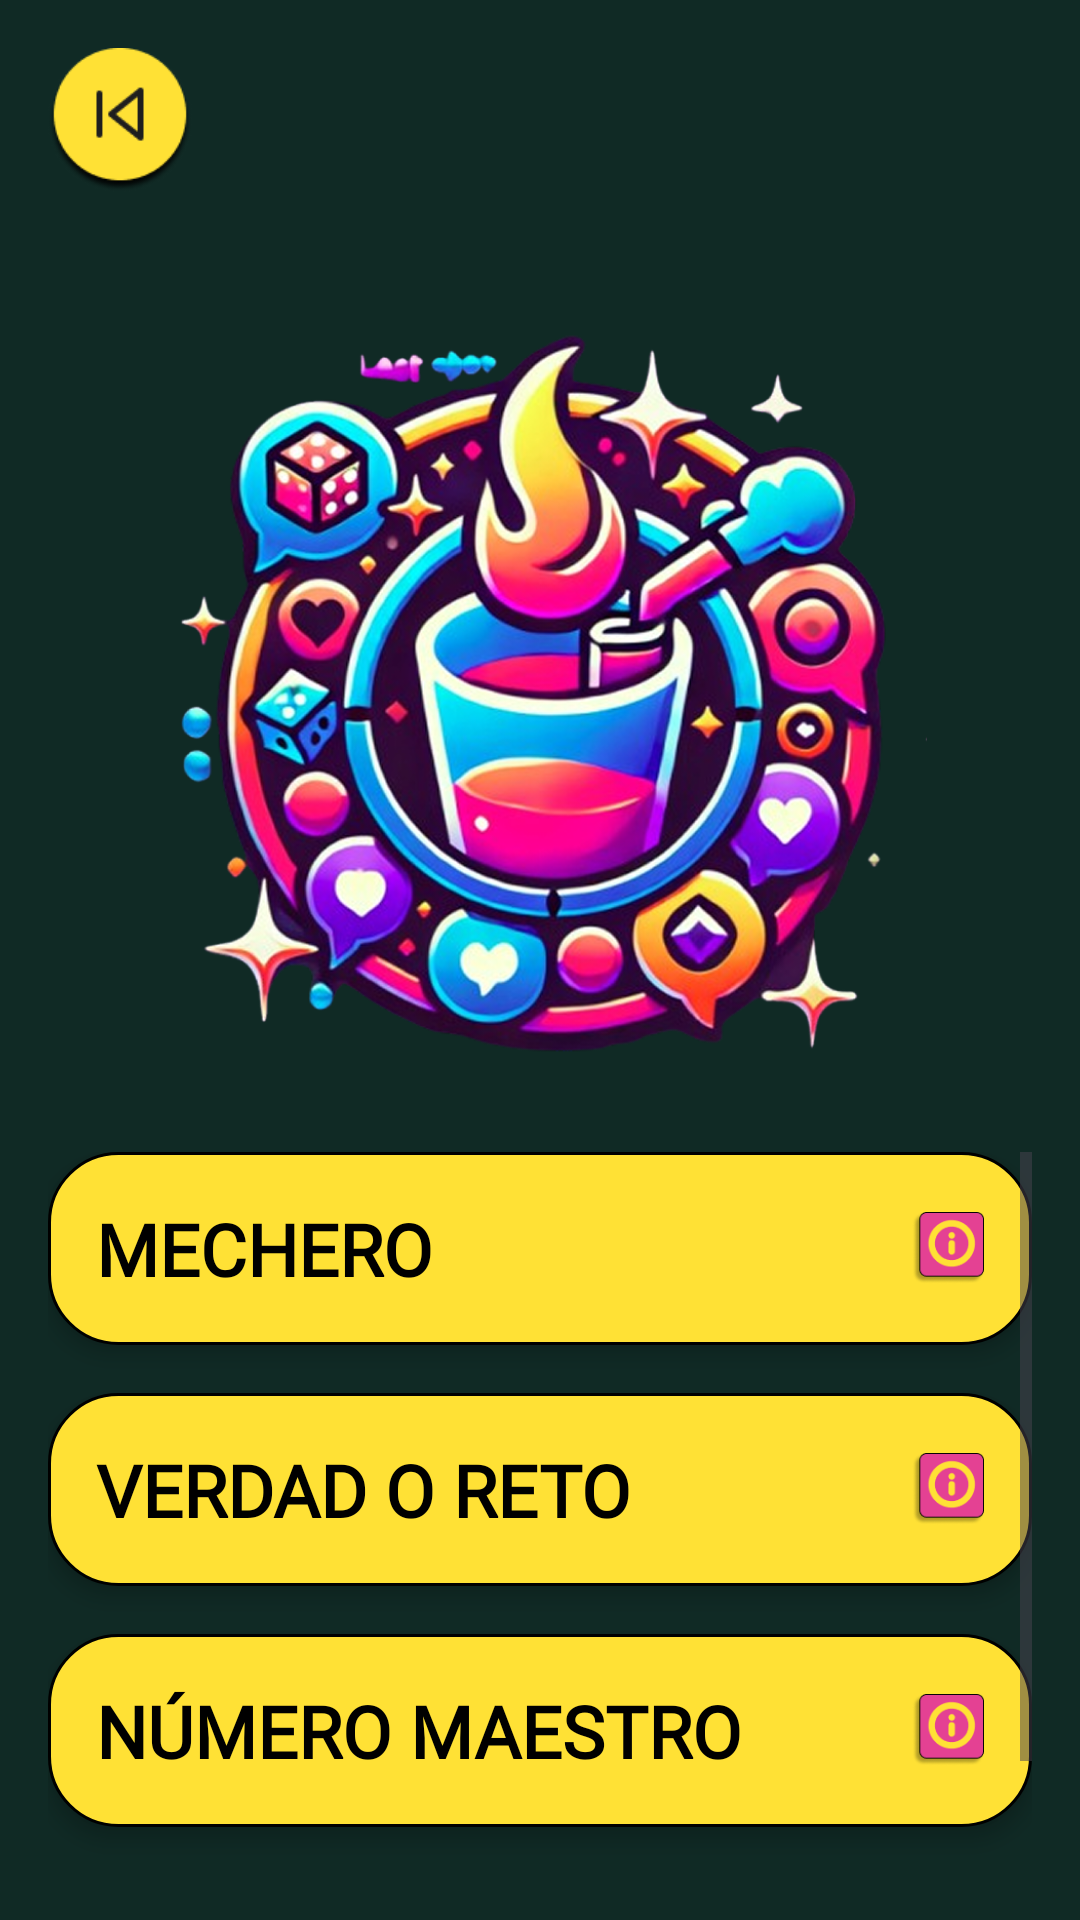

Icon click points for this 1080px×1920px phone screenshot, format [x,y]:
Botón de retroceso: [120,116]
info: [949,1246], [949,1487], [949,1728]
